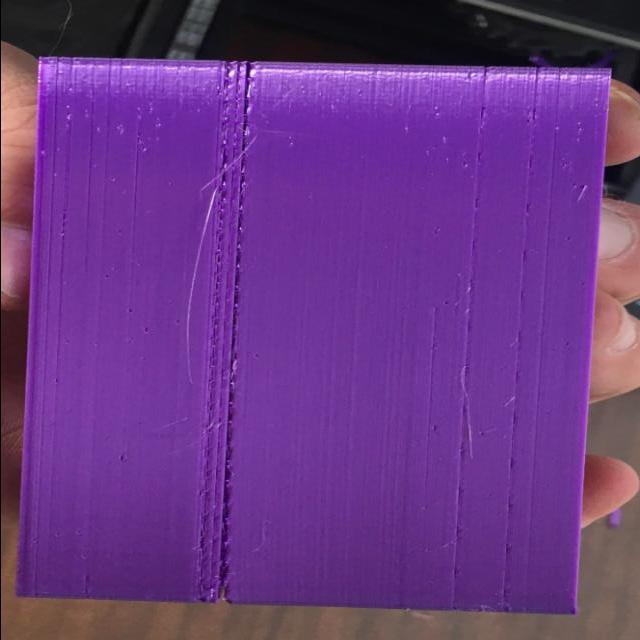cracks: (208, 65, 256, 590)
